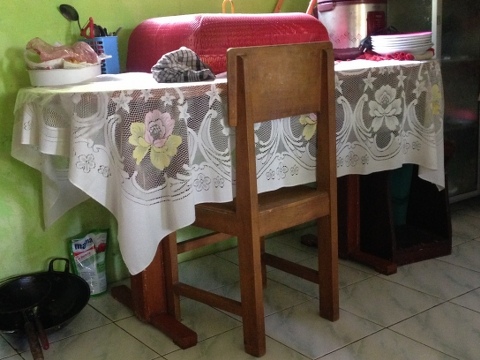kursi: (163, 42, 340, 354)
meja: (10, 56, 438, 350)
